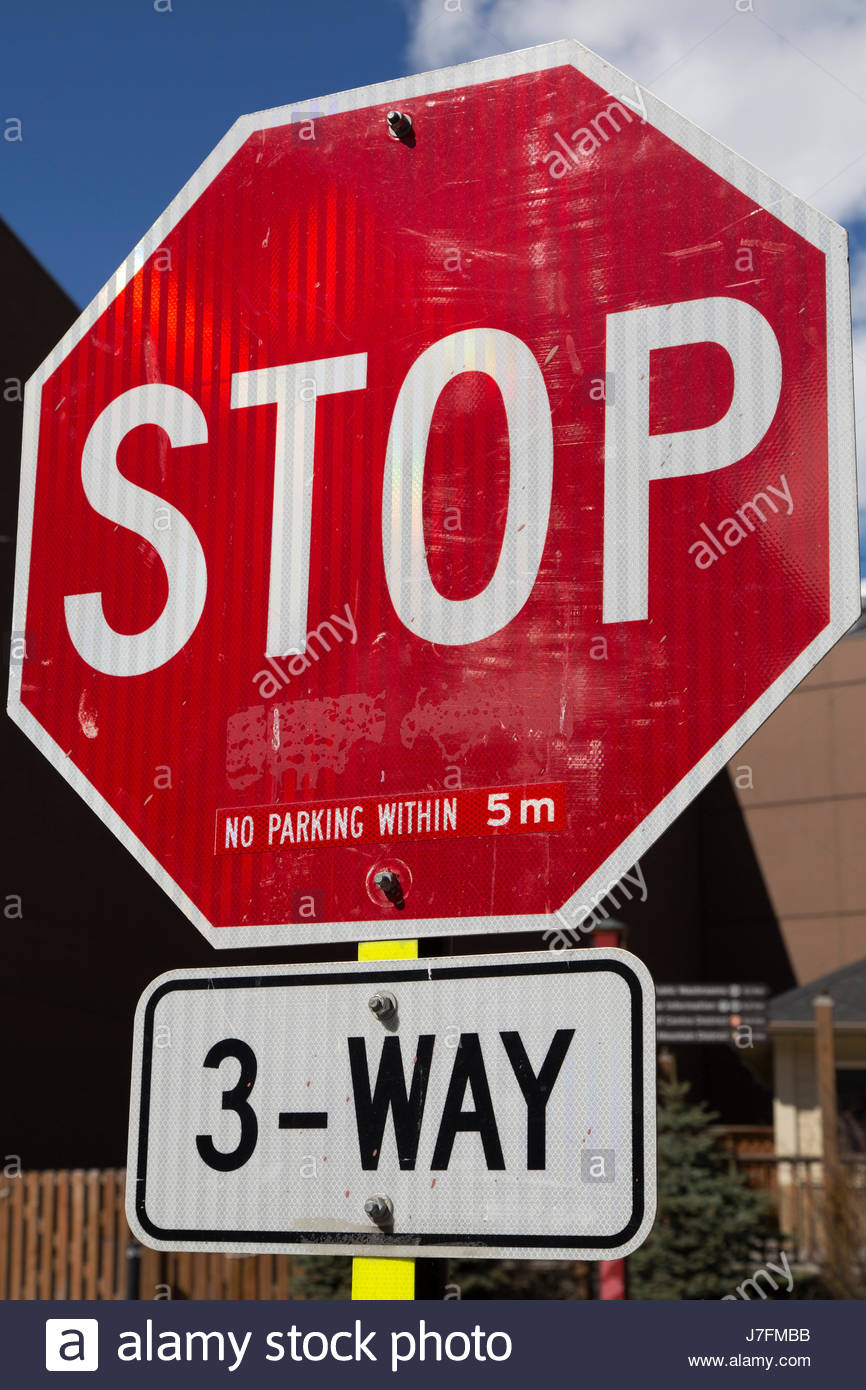stopsign: (9, 55, 855, 948)
